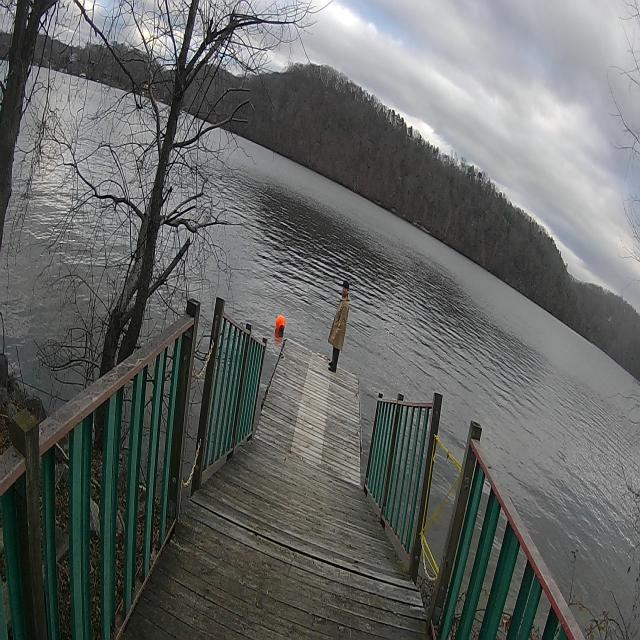Buoy: (273, 312, 290, 341)
